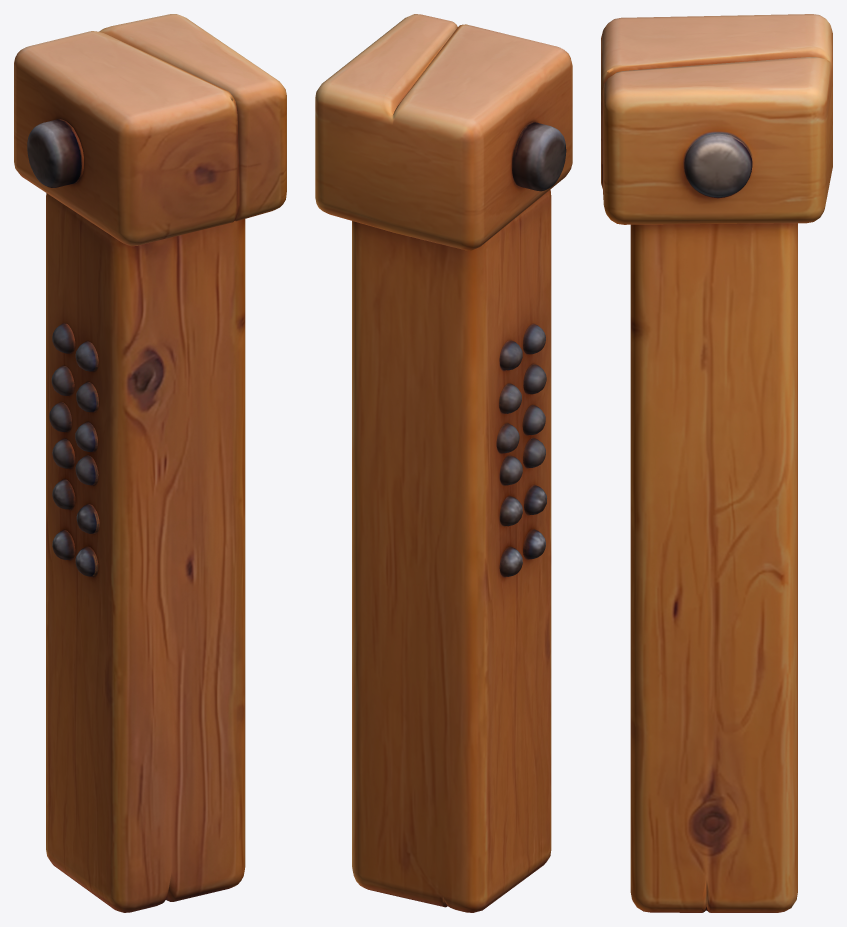
The model's file is AquariumLeg.fbx.
3 views of the same model, side by side, from view 1: azimuth 30°, elevation 25°; view 2: azimuth 150°, elevation 25°; view 3: azimuth 270°, elevation 25° (orthographic). The views are drawn at different scales.
Visible parts, largest first — view 1: tripo_node_b40e6783; view 2: tripo_node_b40e6783; view 3: tripo_node_b40e6783.
Boxes of the visible parts, bbox=[...] form: tripo_node_b40e6783: bbox=[14, 14, 286, 912]; tripo_node_b40e6783: bbox=[315, 14, 572, 912]; tripo_node_b40e6783: bbox=[601, 14, 832, 912].
Size of the model in its own units: 0.271 by 0.9995 by 0.2505.
1 material, 1 textured.
